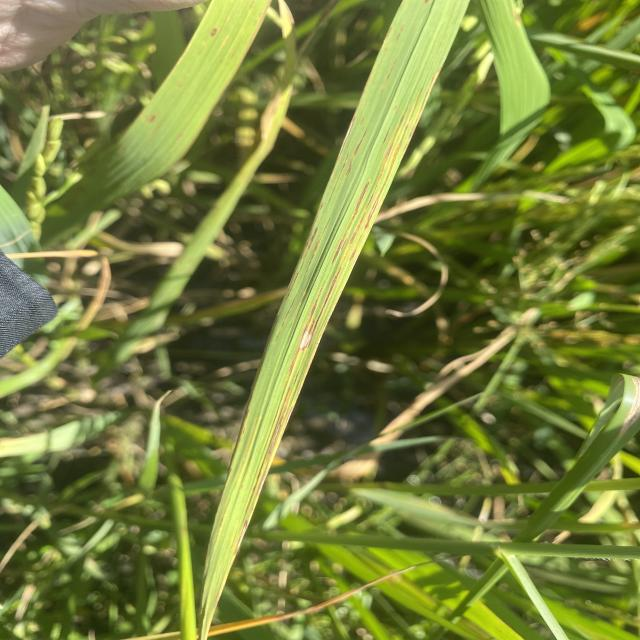Dom soc vi khuan: (308, 105, 409, 347), (365, 88, 424, 230), (332, 182, 370, 263), (306, 218, 331, 271), (345, 129, 367, 180), (384, 59, 396, 86)
